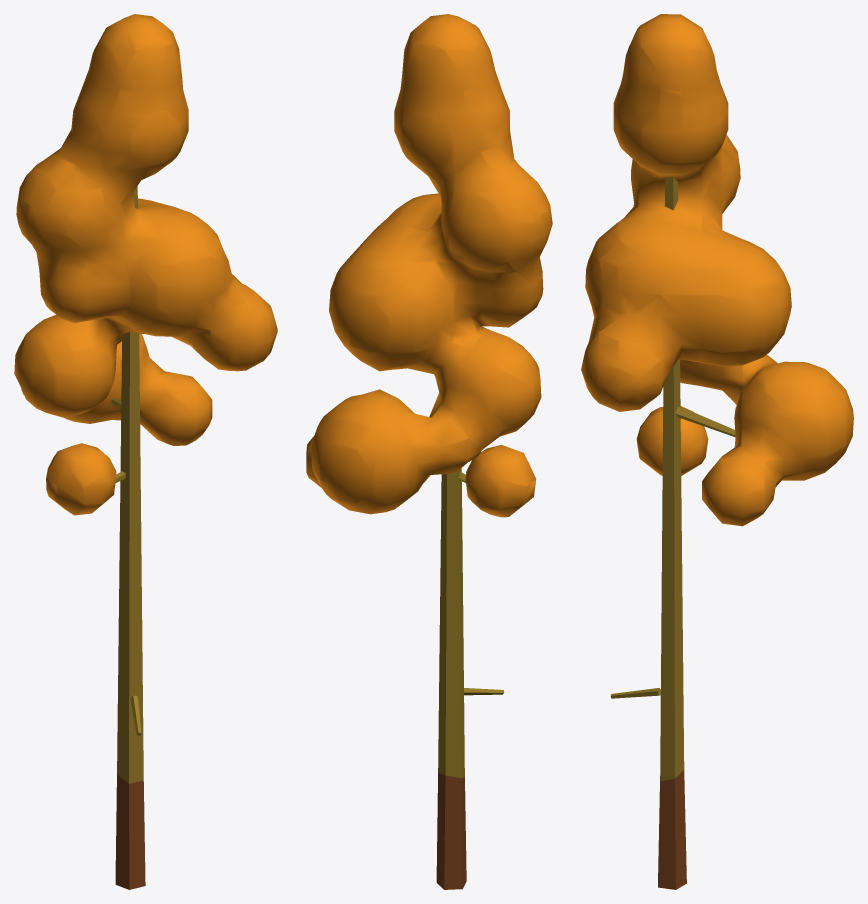
Rendered from PINE2.fbx.
3 renders of one model, left to right at view 1: azimuth 30°, elevation 25°; view 2: azimuth 150°, elevation 25°; view 3: azimuth 270°, elevation 25°, orthographic.
Parts seen in each view (by area): view 1: Mball, Cylinder; view 2: Mball, Cylinder; view 3: Mball, Cylinder.
Part boxes in pixels (left/top/right/bottom): Mball: left=14, top=14, right=277, bottom=515; Cylinder: left=111, top=186, right=145, bottom=889; Mball: left=306, top=14, right=552, bottom=517; Cylinder: left=436, top=468, right=504, bottom=889; Mball: left=581, top=14, right=853, bottom=526; Cylinder: left=610, top=177, right=735, bottom=889.
Bounding box in the file's own units: 921 × 3482 × 991.
